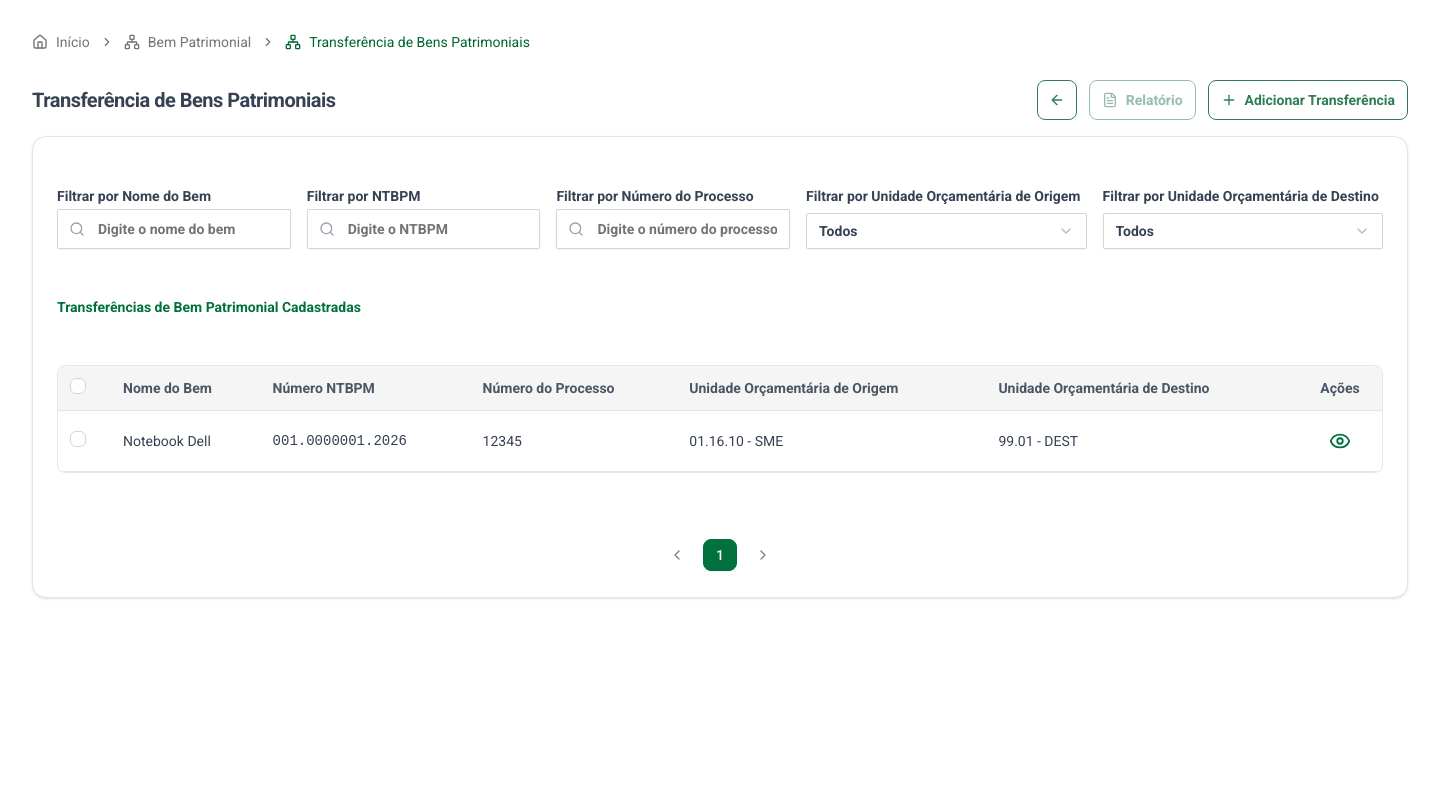
Test: TransferenciasListPage › seleciona todas as transferências ao clicar no checkbox mestre
This screenshot has width=1440, height=810.
What coordinates should you click on to do the following:
click the checkbox named "Selecionar todas as transferências"
I would click on:
 (78, 386)
Its box is [70,378,86,394].
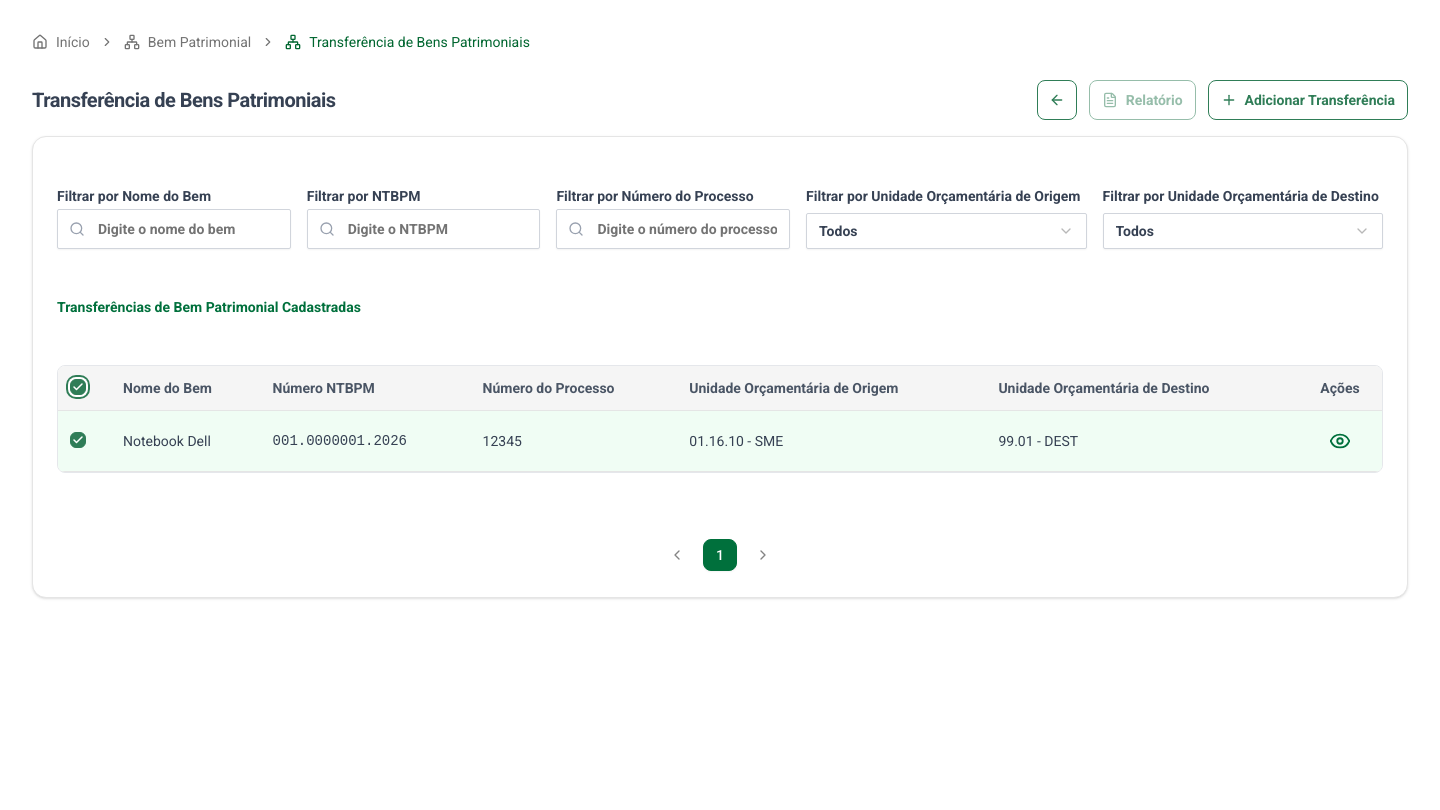
Expected: the checkbox named "Selecionar todas as transferências" is checked, [70,379,86,395]
Expected: the checkbox named "Selecionar transferência 1" is checked, [70,432,86,448]
